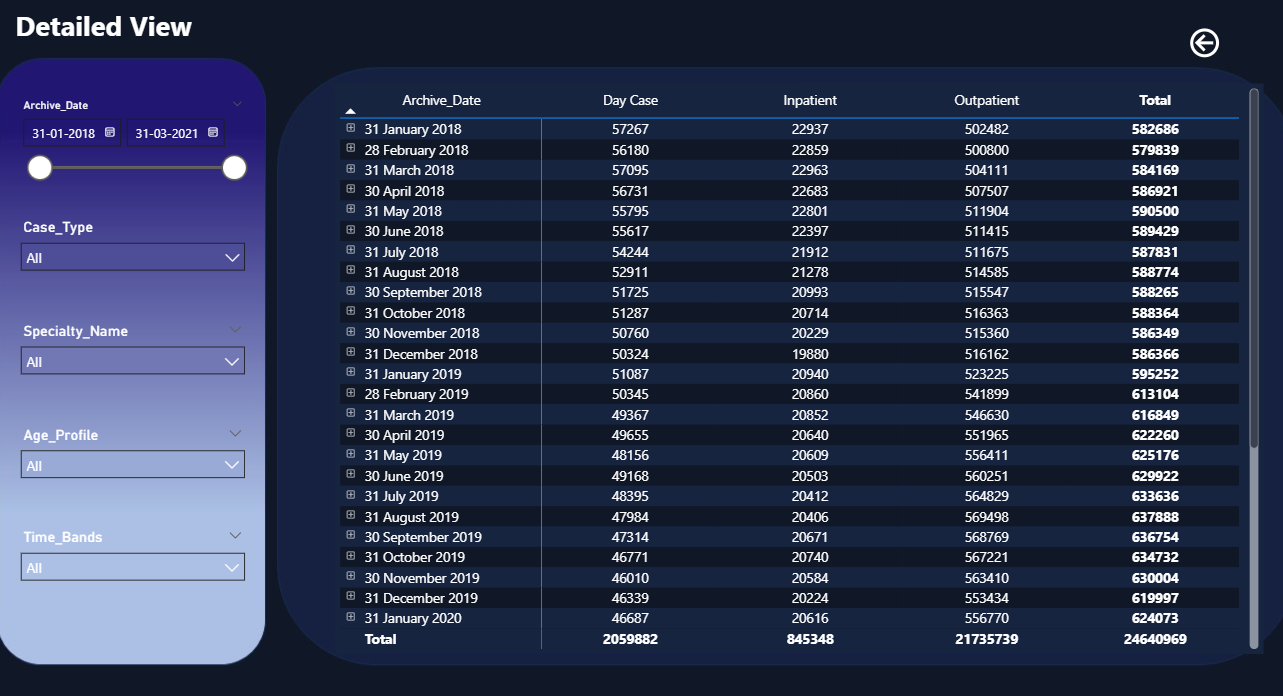

The page's visual inventory and layout, read from the dashboard file:
{"tool":"powerbi","page":{"name":"Detail","canvas":[1280,720],"ordinal":1},"visuals":[{"type":"slicer","fields":{"Values":["All_Data.Archive_Date"]},"box":[16,105.5,240.5,96.9],"z":0},{"type":"slicer","fields":{"Values":["All_Data.Case_Type"]},"box":[16,223.9,240.5,79.8],"z":1000},{"type":"slicer","fields":{"Values":["All_Data.Specialty_Name"]},"box":[16,325.1,240,80],"z":2000},{"type":"textbox","box":[16,16,240,80],"z":3000},{"type":"slicer","fields":{"Values":["All_Data.Age_Profile"]},"box":[16,426.6,240,80],"z":4000},{"type":"slicer","fields":{"Values":["All_Data.Time_Bands"]},"box":[16,528,240,80],"z":5000},{"type":"pivotTable","fields":{"Rows":["All_Data.Archive_Date","All_Data.Age_Profile","All_Data.Specialty_Name","All_Data.Time_Bands"],"Columns":["All_Data.Case_Type"],"Values":["Sum(All_Data.Total)"]},"box":[335,96.2,911.2,560],"z":6000},{"type":"actionButton","box":[1169.3,36.8,66.3,38],"z":7000}]}

Visuals, with their boxes on the page's 1280x720 design canvas (x1, y1, x2, y2). These are canvas units, not pixel positions in the 1283x696 screenshot, which may show the page scaled, cropped or inside an application window:
slicer - All_Data.Archive_Date: [16, 106, 256, 202]
slicer - All_Data.Case_Type: [16, 224, 256, 304]
slicer - All_Data.Specialty_Name: [16, 325, 256, 405]
textbox: [16, 16, 256, 96]
slicer - All_Data.Age_Profile: [16, 427, 256, 507]
slicer - All_Data.Time_Bands: [16, 528, 256, 608]
pivotTable - All_Data.Archive_Date x All_Data.Age_Profile: [335, 96, 1246, 656]
actionButton: [1169, 37, 1236, 75]
